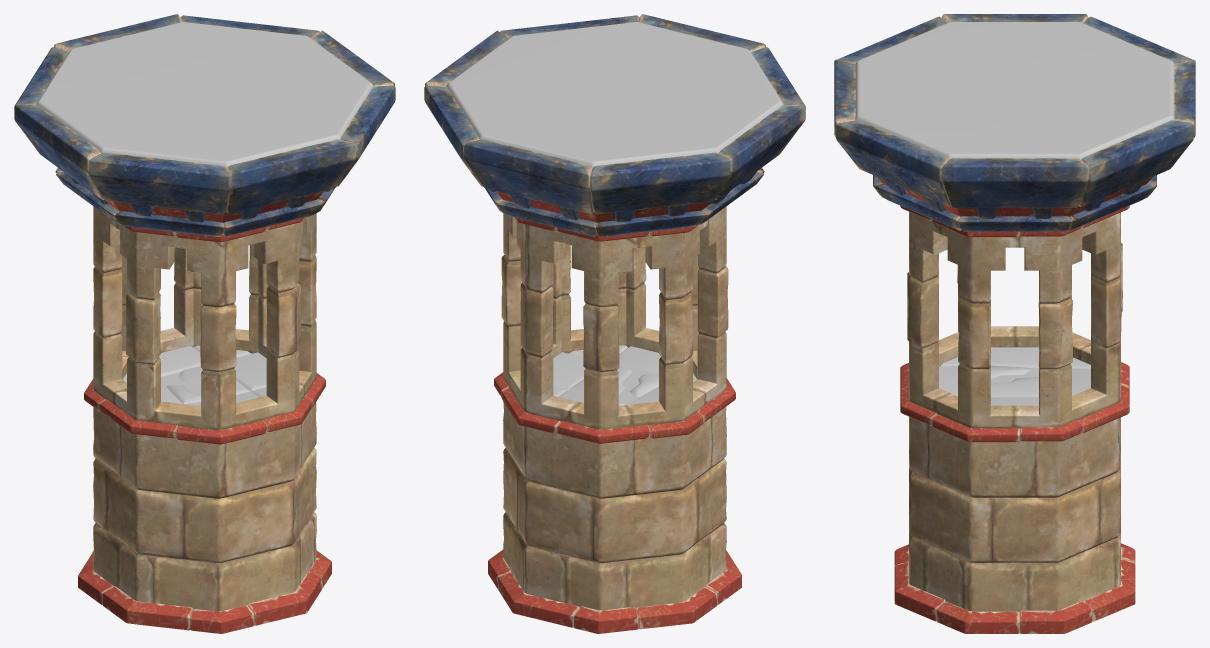
3 views of the same model, side by side, from view 1: azimuth 30°, elevation 25°; view 2: azimuth 150°, elevation 25°; view 3: azimuth 270°, elevation 25° (orthographic).
Parts seen in each view (by area): view 1: SM_Menaphite_Ruins_Tower_02v2_LOD0; view 2: SM_Menaphite_Ruins_Tower_02v2_LOD0; view 3: SM_Menaphite_Ruins_Tower_02v2_LOD0.
Boxes of the visible parts, <box> form: SM_Menaphite_Ruins_Tower_02v2_LOD0: <box>14,14,395,633</box>; SM_Menaphite_Ruins_Tower_02v2_LOD0: <box>424,14,805,633</box>; SM_Menaphite_Ruins_Tower_02v2_LOD0: <box>834,14,1195,633</box>.
Bounding box in the file's own units: 6.74 × 10.19 × 6.74.
